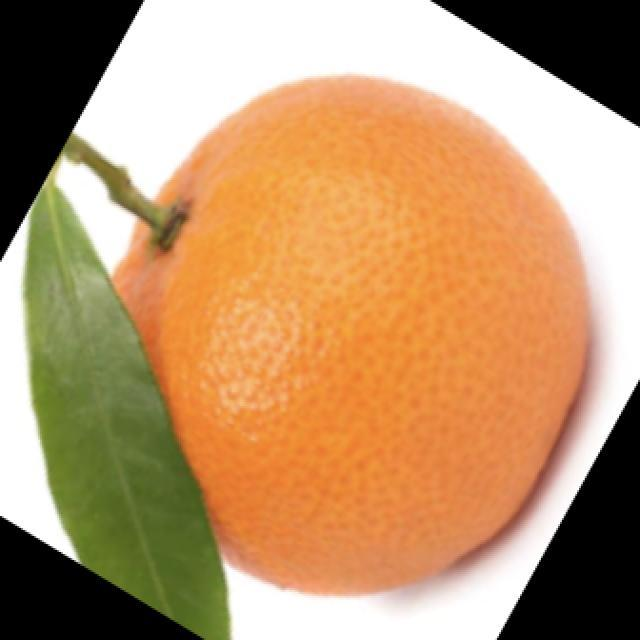Orange: (108, 73, 590, 597)
